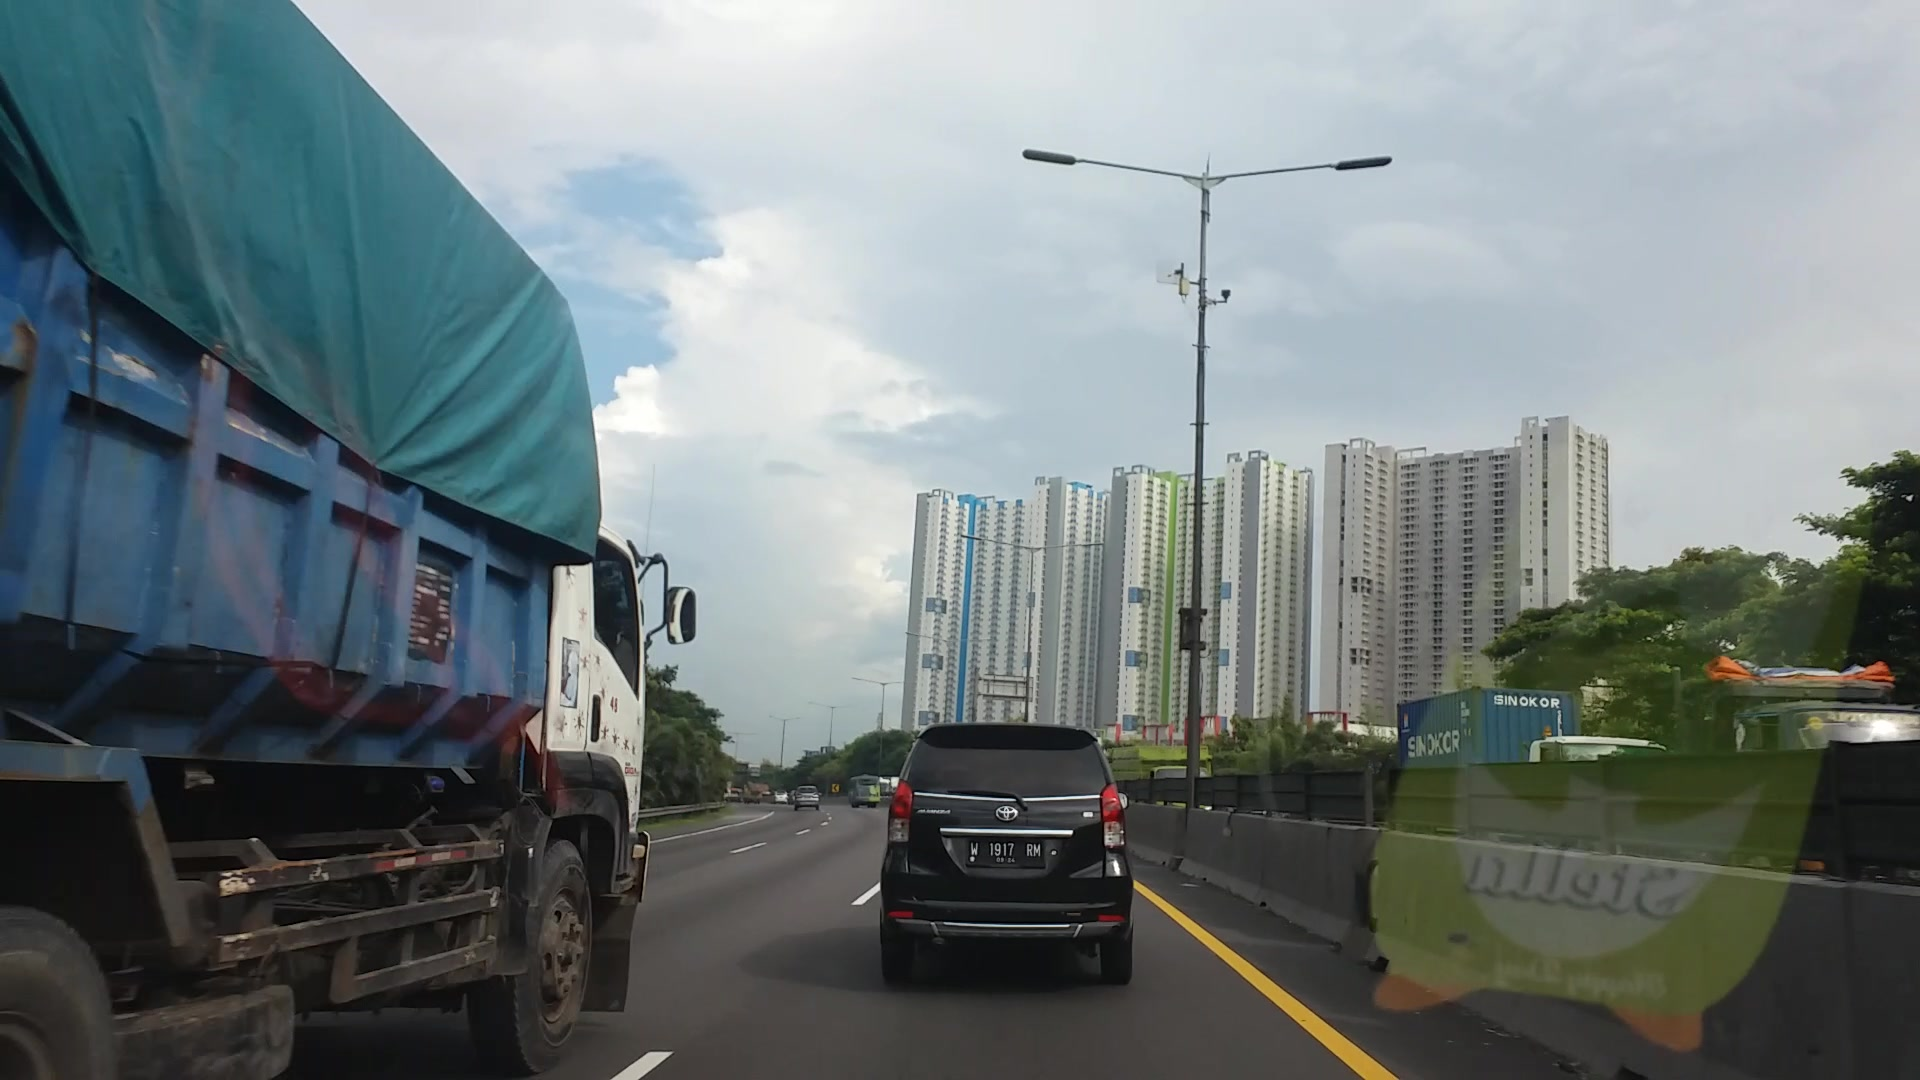plate_positive: (967, 837, 1043, 865)
